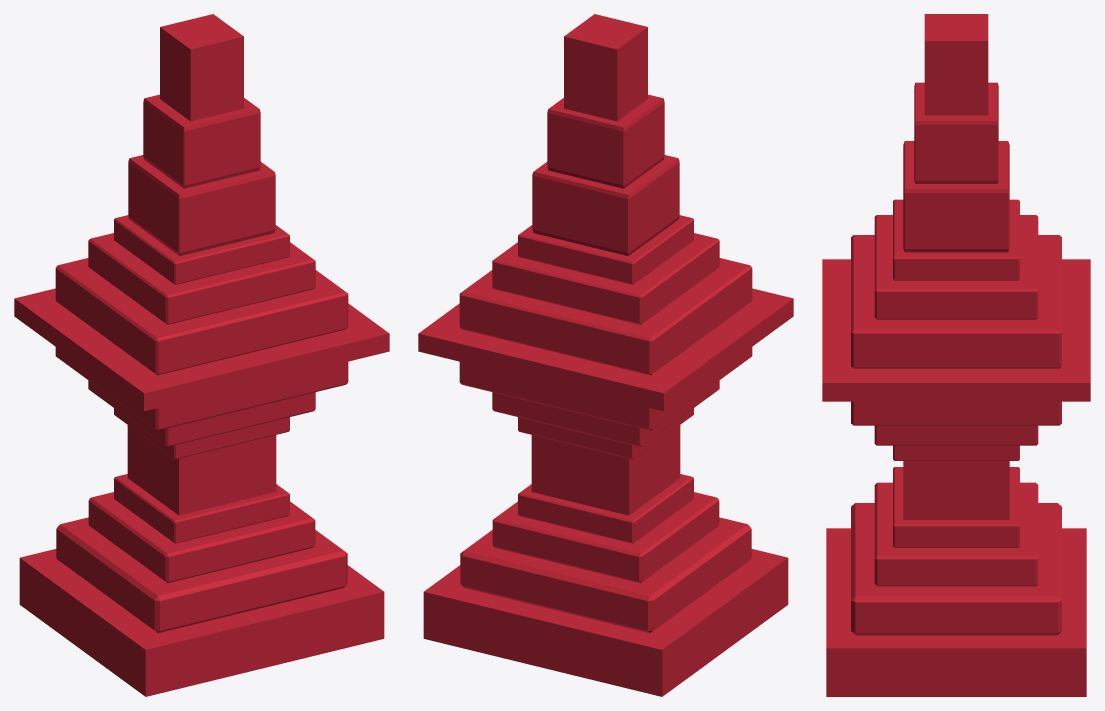
File: KINETIKA_EMPILEMENT_DESTRUCTIBLE_6.FBX
3 renders of one model, left to right at view 1: azimuth 30°, elevation 25°; view 2: azimuth 150°, elevation 25°; view 3: azimuth 270°, elevation 25°, orthographic. The views are drawn at different scales.
Visible parts, largest first — view 1: Empilement6, Box111, Box106, Box110, Box113, Box112, Box094, Box103, Box115, Box116, Box109, Box114 (+3 smaller); view 2: Empilement6, Box111, Box106, Box110, Box113, Box112, Box094, Box103, Box115, Box116, Box109, Box114 (+3 smaller); view 3: Empilement6, Box110, Box111, Box106, Box112, Box094, Box113, Box116, Box115, Box103, Box109, Box114 (+3 smaller).
Part boxes in pixels (x1,y1,x2,y2): Empilement6: [19, 549, 384, 696]; Box111: [55, 258, 348, 375]; Box106: [56, 517, 347, 632]; Box110: [14, 288, 389, 411]; Box113: [128, 155, 275, 256]; Box112: [88, 233, 315, 324]; Box094: [88, 492, 315, 583]; Box103: [127, 425, 276, 515]; Box115: [143, 94, 260, 188]; Box116: [160, 14, 243, 121]; Box109: [55, 347, 348, 430]; Box114: [114, 215, 289, 284]; Empilement6: [423, 549, 788, 696]; Box111: [459, 258, 752, 375]; Box106: [460, 517, 751, 632]; Box110: [418, 288, 793, 411]; Box113: [532, 155, 679, 256]; Box112: [492, 233, 719, 324]; Box094: [492, 492, 719, 583]; Box103: [531, 425, 680, 515]; Box115: [547, 94, 664, 188]; Box116: [564, 14, 647, 121]; Box109: [459, 347, 752, 430]; Box114: [518, 215, 693, 284]; Empilement6: [826, 528, 1086, 696]; Box110: [822, 259, 1090, 401]; Box111: [851, 235, 1061, 368]; Box106: [851, 503, 1061, 635]; Box112: [874, 215, 1038, 319]; Box094: [874, 482, 1038, 586]; Box113: [903, 141, 1009, 252]; Box116: [924, 14, 988, 115]; Box115: [914, 82, 998, 183]; Box103: [903, 461, 1009, 519]; Box109: [851, 401, 1061, 425]; Box114: [893, 199, 1019, 280].
Size of the model in its own units: 13.87 by 31.86 by 12.7.
